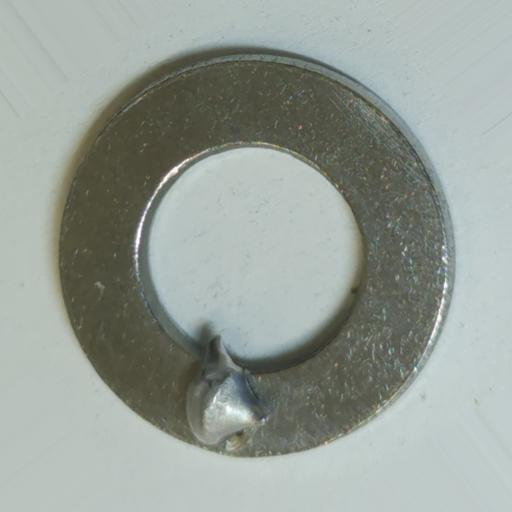excess_material: (185, 333, 271, 453)
